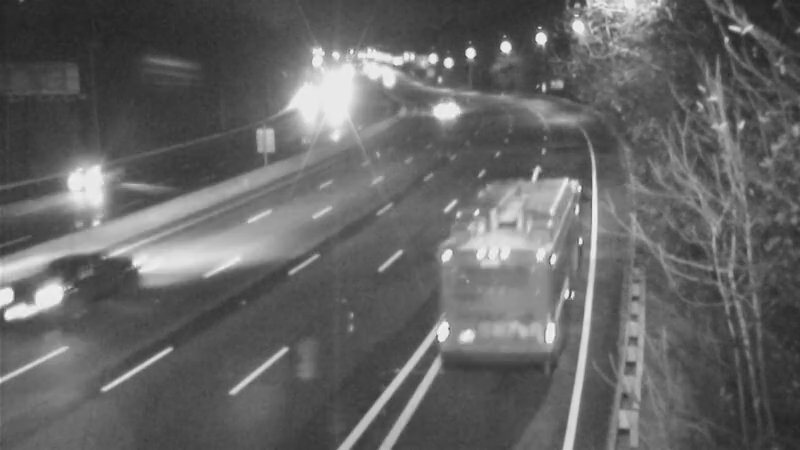vehicle: (460, 209, 540, 289), (37, 243, 117, 323), (43, 142, 123, 222), (419, 79, 469, 129)
